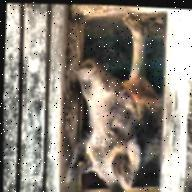boar: (64, 5, 181, 190)
